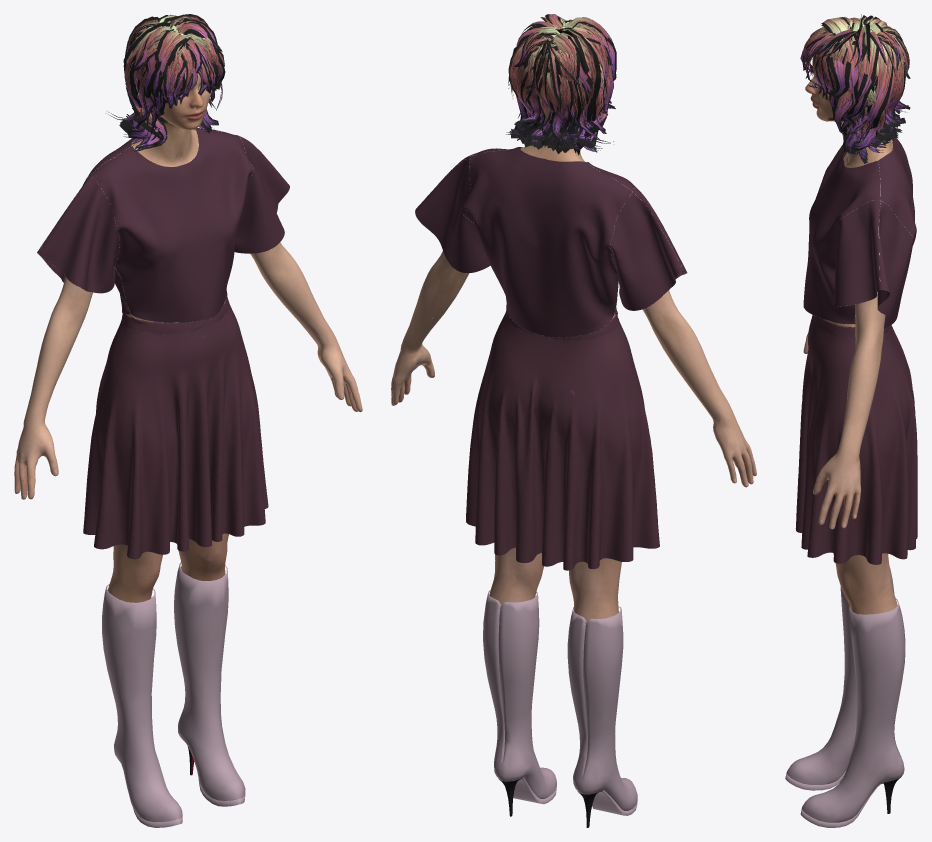
The picture shows the model from 3 angles, left to right: view 1: azimuth 30°, elevation 25°; view 2: azimuth 150°, elevation 25°; view 3: azimuth 270°, elevation 25°; orthographic projection. The views are drawn at different scales.
Parts seen in each view (by area): view 1: Cloth, Avatar; view 2: Cloth, Avatar; view 3: Cloth, Avatar.
Part boxes in pixels (left/top/right/bottom): Cloth: left=37, top=128, right=289, bottom=559; Avatar: left=14, top=14, right=362, bottom=827; Cloth: left=415, top=147, right=687, bottom=570; Avatar: left=391, top=14, right=756, bottom=827; Cloth: left=795, top=138, right=917, bottom=564; Avatar: left=785, top=14, right=910, bottom=827.
Size of the model in its own units: 0.78 by 1.69 by 0.2603.
15 materials, 14 textured.
